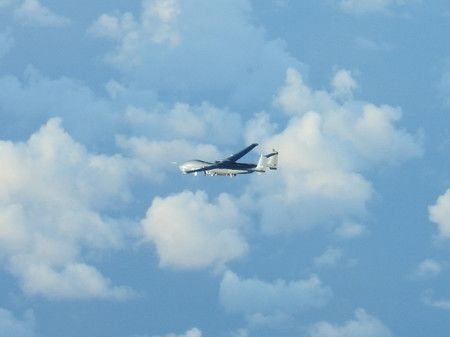plane: (179, 143, 279, 176)
